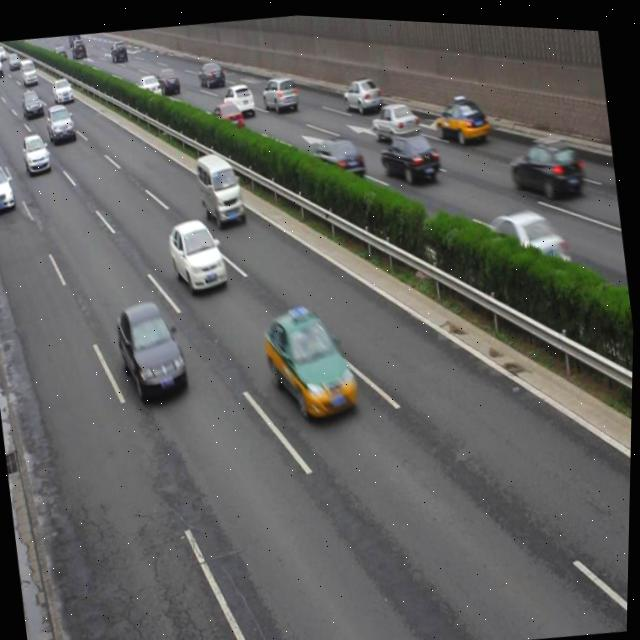car: (260, 296, 364, 428), (114, 292, 192, 407), (475, 196, 572, 279), (506, 126, 588, 202), (166, 211, 230, 297), (376, 124, 441, 184), (306, 128, 367, 189), (432, 89, 491, 146), (368, 94, 421, 142), (340, 71, 383, 114), (259, 70, 298, 113), (21, 130, 54, 178), (208, 98, 246, 136), (221, 80, 256, 116), (0, 163, 18, 217)
truck: (195, 146, 248, 228)
